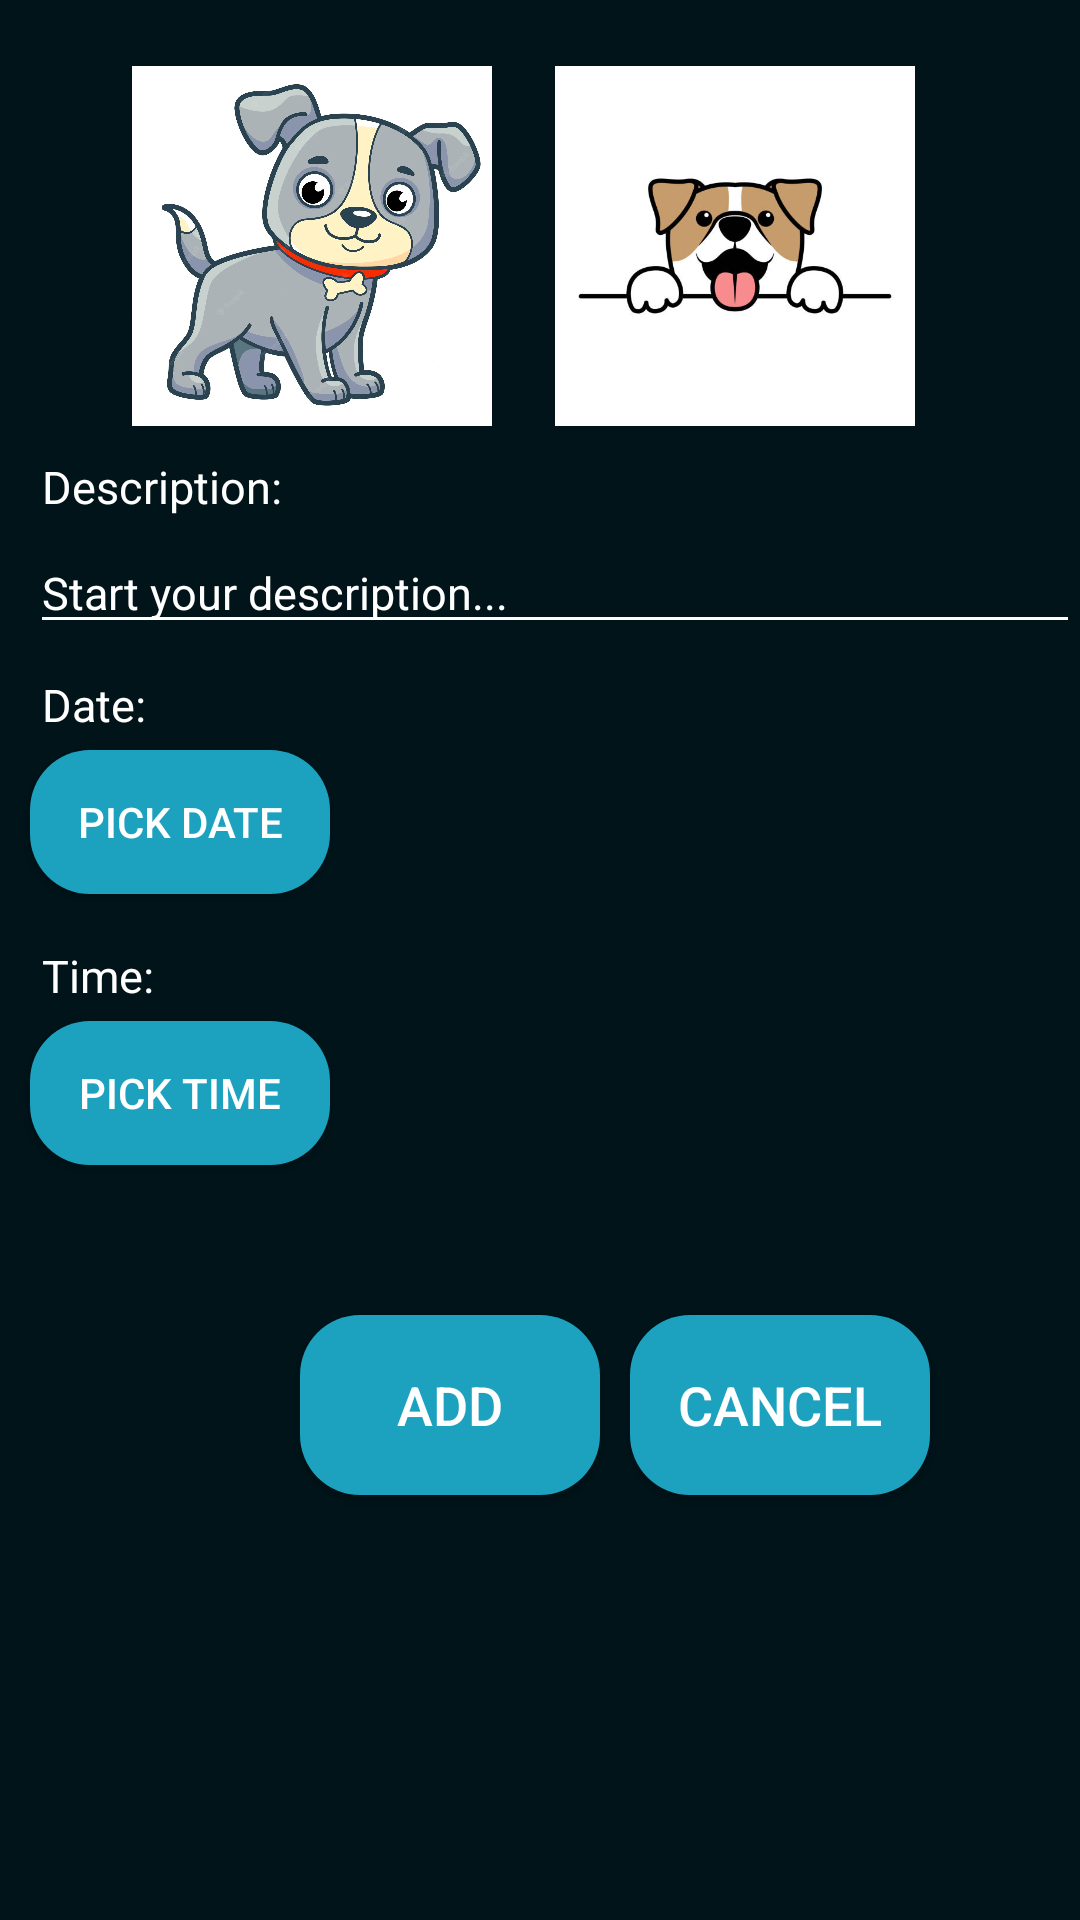

Named icons in this screenshot (1080px x 1920px) and their bounding boxes, (x1, y1, x2, y2):
littledog: (132, 66, 492, 426)
littledogsquare: (555, 66, 915, 426)
